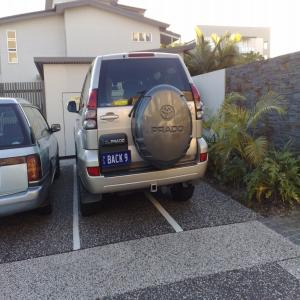Vehicle-registration-plate: (101, 155, 132, 169)
